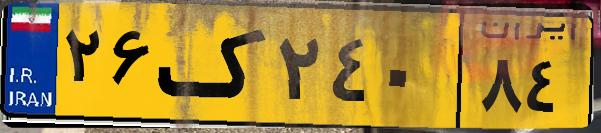0: (385, 28, 445, 110)
2: (270, 28, 330, 110), (57, 26, 110, 100)
4: (330, 28, 385, 110), (525, 38, 570, 115)
6: (110, 28, 158, 98)
8: (475, 38, 525, 113)
ک: (158, 12, 270, 120)
